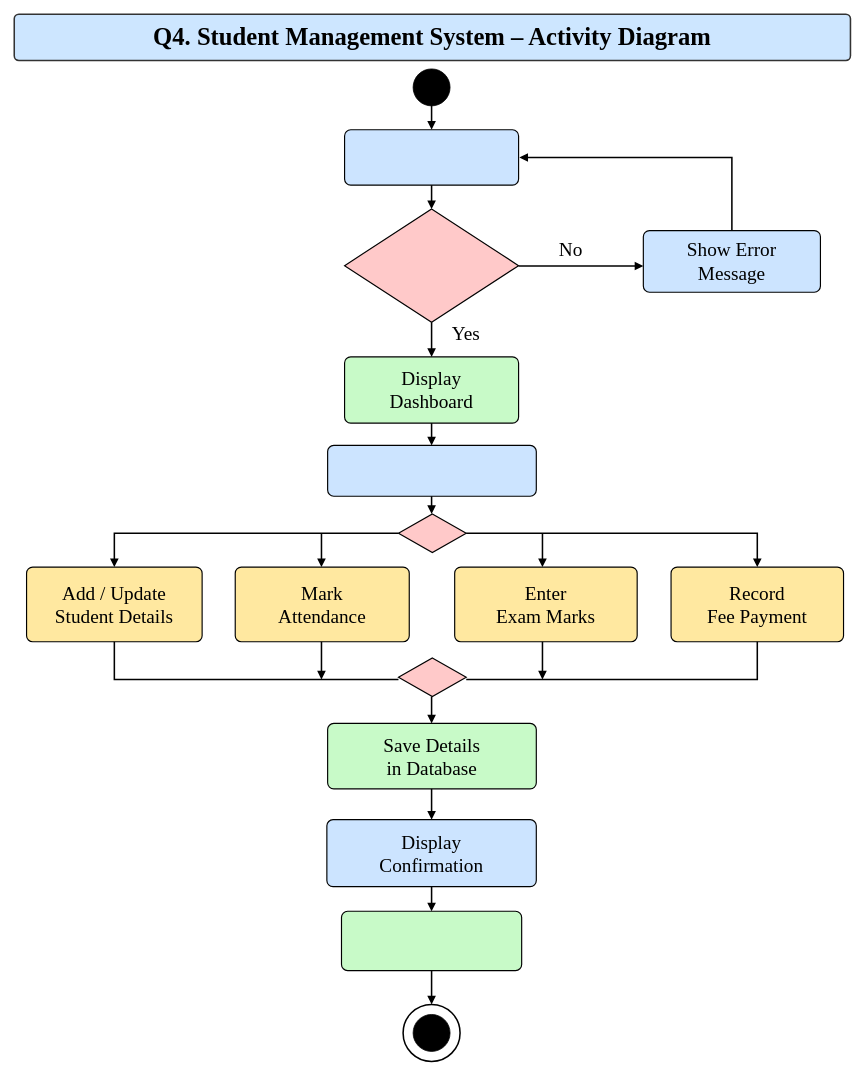
Image size: 864x1075. Some labels were removed from this diagram. The centre of each missing label's shape, as x and y in pixels:
"Enter Login Details" belongs at point 431,157.
"Logout" belongs at point 431,940.
"Select Operation" belongs at point 432,470.
"Valid Credentials?" belongs at point 431,265.
